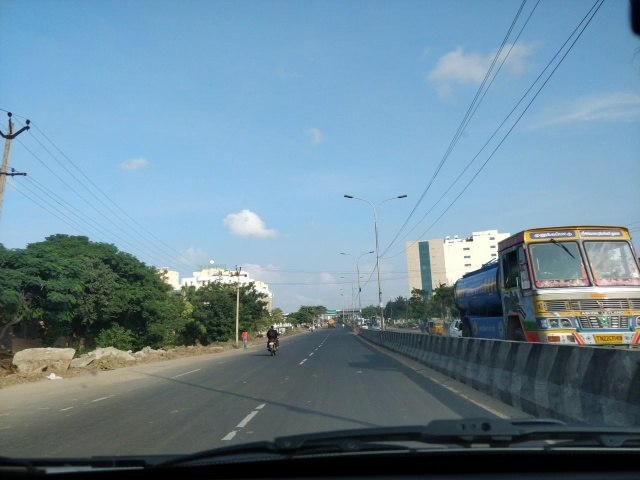auto: (426, 315, 452, 339)
car: (264, 323, 280, 358), (372, 323, 384, 332), (360, 324, 370, 329)
motorbike: (266, 324, 282, 358)
person: (239, 329, 251, 350)
truck: (452, 225, 638, 345), (327, 318, 341, 335), (353, 318, 367, 326)
